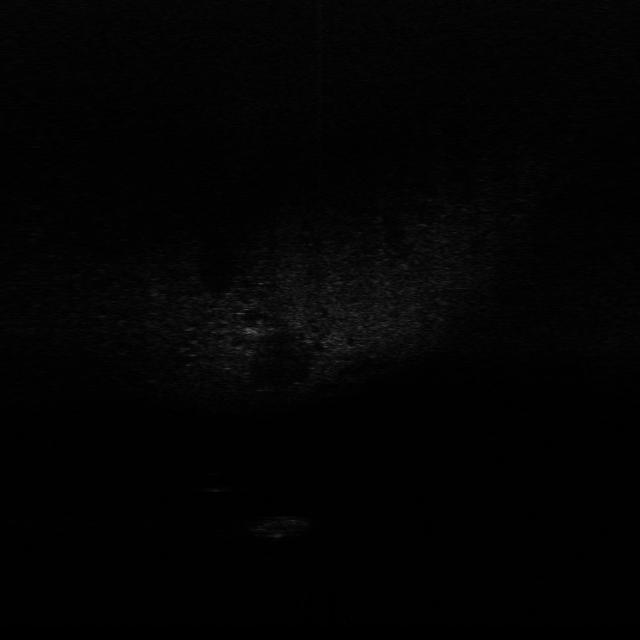ball: (197, 468, 236, 494)
circle cage: (240, 513, 314, 539)
